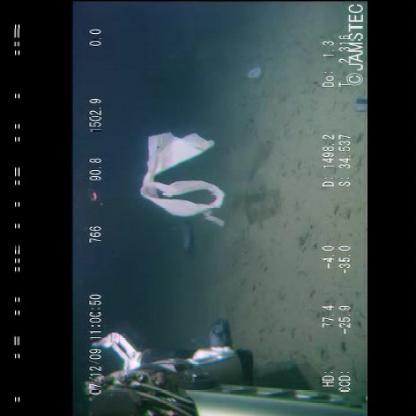Rác: (136, 131, 240, 229)
